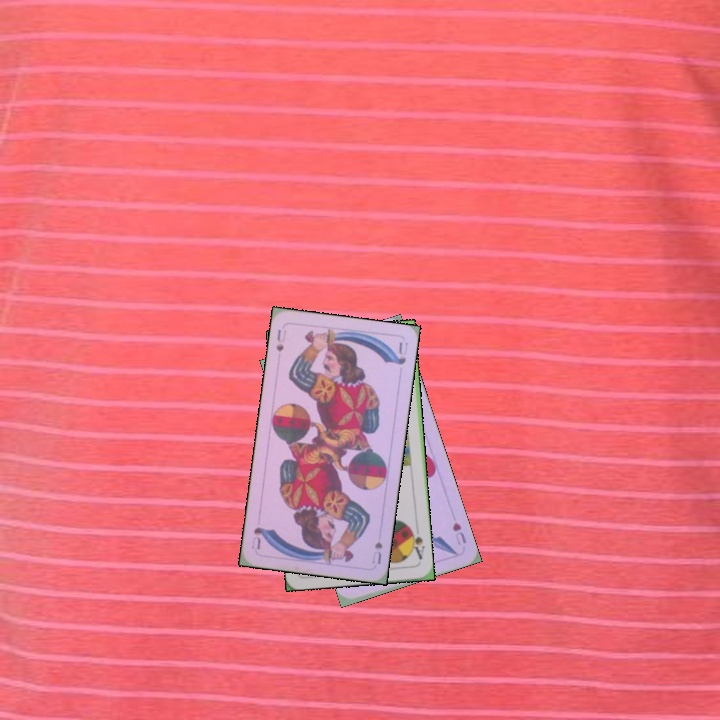HU: (448, 518, 469, 548)
SA: (406, 524, 427, 562)
SU: (272, 325, 289, 354), (368, 538, 385, 566)
